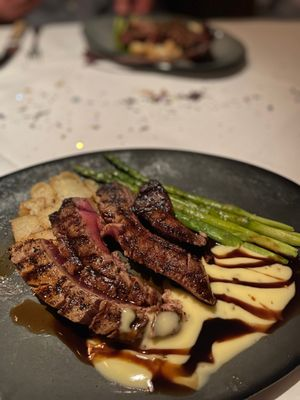curry: (0, 4, 299, 393)
